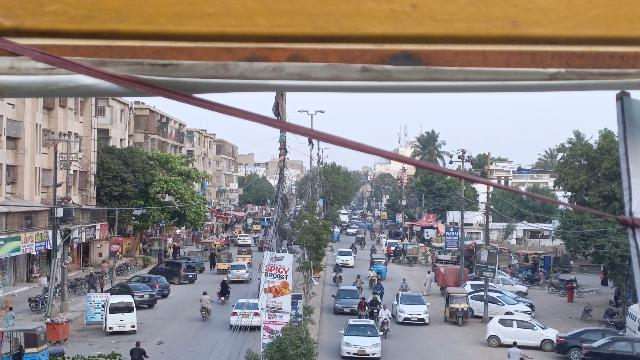Bike: (377, 316, 393, 338), (198, 307, 210, 322), (332, 271, 343, 287), (369, 306, 380, 320), (356, 308, 370, 318), (217, 294, 227, 308), (368, 276, 376, 288), (376, 290, 381, 298)
Car: (485, 311, 557, 351), (554, 325, 613, 358), (339, 318, 383, 360), (393, 291, 432, 327), (106, 281, 157, 307), (148, 260, 199, 285), (229, 297, 264, 329), (129, 272, 171, 298), (330, 284, 362, 315), (228, 261, 252, 285)
Person: (503, 340, 523, 360), (128, 340, 147, 359), (422, 269, 434, 296), (197, 289, 213, 308), (4, 306, 16, 329), (85, 270, 97, 292), (207, 249, 217, 272), (378, 303, 392, 319), (356, 296, 369, 311), (218, 278, 230, 293), (368, 295, 380, 309), (353, 272, 365, 285), (398, 277, 410, 290), (332, 261, 343, 273), (366, 267, 378, 278), (373, 279, 384, 290)
Rickshaw: (0, 324, 48, 360), (441, 286, 472, 327), (370, 253, 388, 281), (216, 251, 233, 274), (236, 245, 253, 262)
Van: (101, 294, 139, 335)
